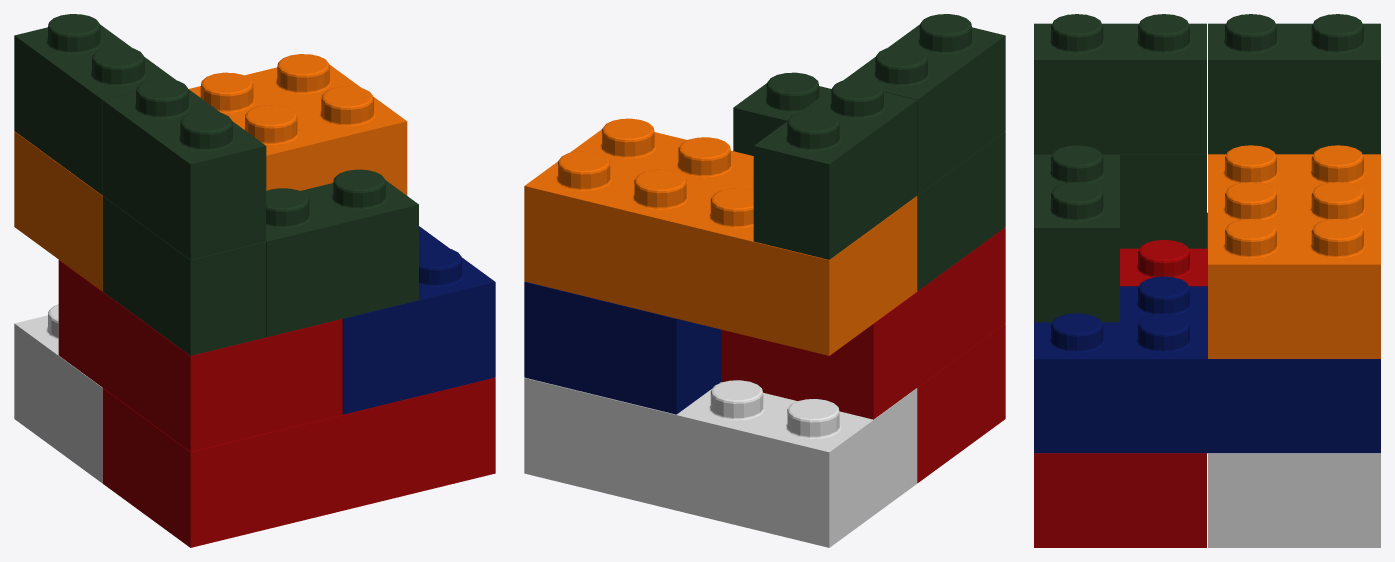
Rendered from mod41.dae.
The picture shows the model from 3 angles, left to right: view 1: azimuth 30°, elevation 25°; view 2: azimuth 150°, elevation 25°; view 3: azimuth 270°, elevation 25°; orthographic projection.
Visible parts, largest first — view 1: Part.1, Part.4, Part.3, Part.8, Part.5, Part.2, Part.7, Part.6, Part.0; view 2: Part.3, Part.0, Part.6, Part.4, Part.2, Part.8, Part.7, Part.1, Part.5; view 3: Part.2, Part.3, Part.8, Part.6, Part.0, Part.1, Part.5, Part.7, Part.4.
Part boxes in pixels (x1,y1,x2,y2): Part.1: [102, 377, 495, 547]; Part.4: [58, 260, 342, 451]; Part.3: [14, 54, 407, 291]; Part.8: [102, 78, 266, 259]; Part.5: [266, 169, 418, 337]; Part.2: [342, 226, 495, 414]; Part.7: [102, 196, 266, 355]; Part.6: [14, 14, 176, 195]; Part.0: [14, 304, 102, 483]; Part.3: [524, 118, 917, 355]; Part.0: [524, 377, 917, 547]; Part.6: [753, 78, 917, 259]; Part.4: [721, 227, 1005, 419]; Part.2: [524, 281, 721, 414]; Part.8: [843, 14, 1005, 195]; Part.7: [917, 131, 1005, 291]; Part.1: [917, 323, 1005, 483]; Part.5: [733, 72, 830, 155]; Part.2: [1034, 276, 1380, 453]; Part.3: [1208, 145, 1380, 358]; Part.8: [1034, 14, 1206, 154]; Part.6: [1208, 14, 1380, 154]; Part.0: [1208, 453, 1380, 547]; Part.1: [1034, 453, 1206, 547]; Part.5: [1034, 145, 1119, 322]; Part.7: [1034, 154, 1206, 248]; Part.4: [1120, 212, 1207, 286].
Bounding box in the file's own units: 31.92 × 40.18 × 31.92.
